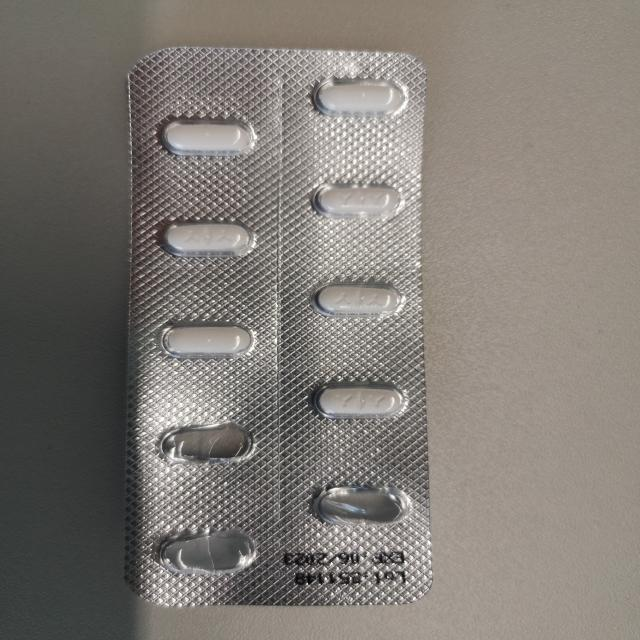Empty: (151, 526, 264, 578), (149, 419, 261, 468), (304, 482, 417, 528)
Pill: (154, 114, 266, 161), (153, 215, 259, 262), (306, 74, 407, 120), (155, 319, 260, 363), (304, 179, 407, 223), (308, 379, 408, 423), (308, 277, 406, 321)
